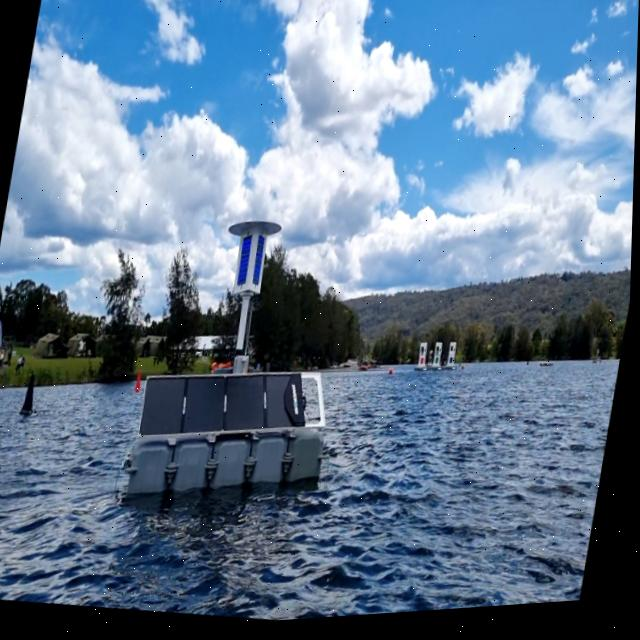led: (251, 236, 269, 290), (238, 241, 255, 290)
